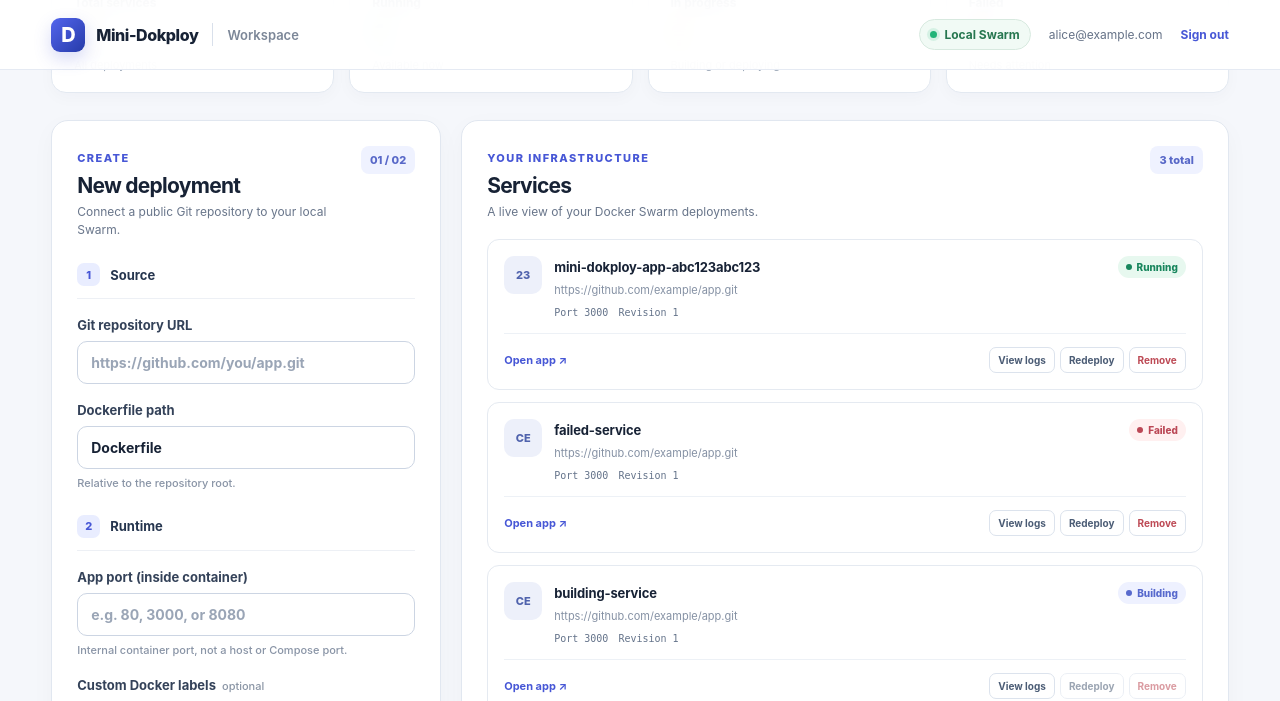
Scenario: Mini-Dokploy page › summarizes deployment states and exposes details for a selected service
(page scrolled)
Expected: the text "building-service" is shown, [554,585,657,601]
Expected: the text "3" is shown, [74,17,92,53]
Click the button "View logs" below "mini-dokploy-app-abc123abc123": (1022, 360) [989,347,1055,373]
(page scrolled)
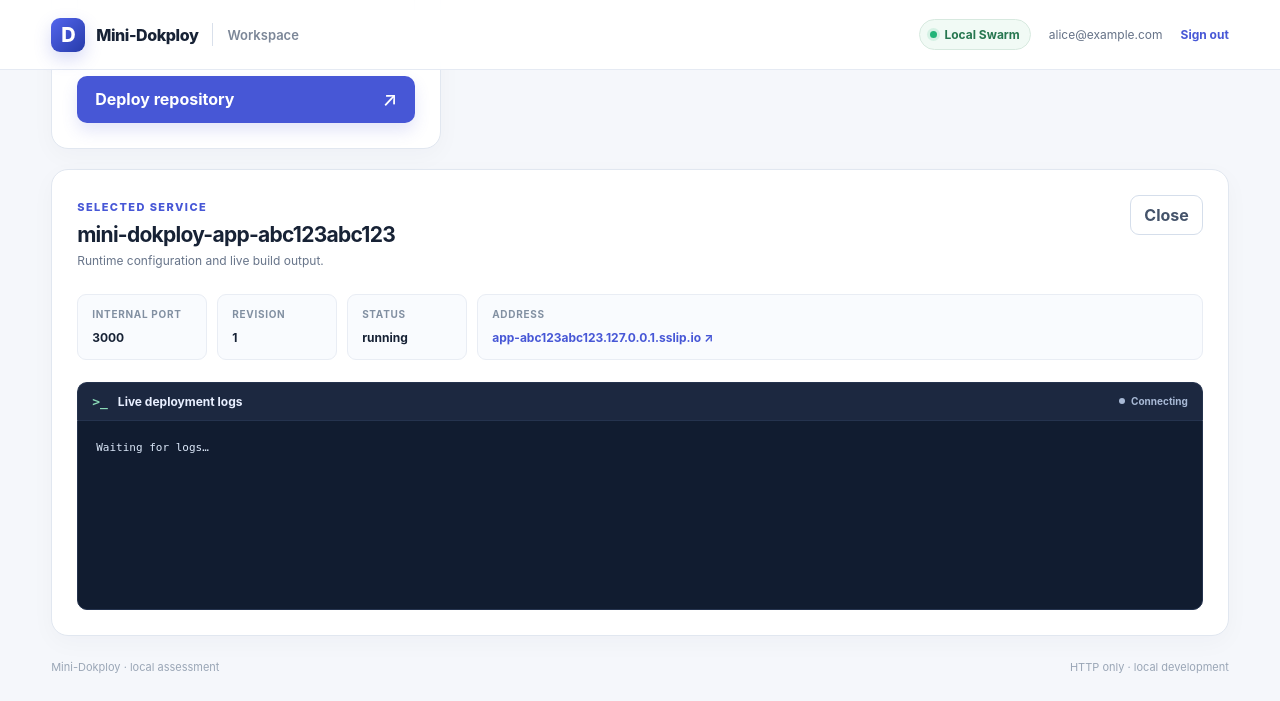
Now the heading "Live deployment logs" is shown, box [118,394,242,409]
